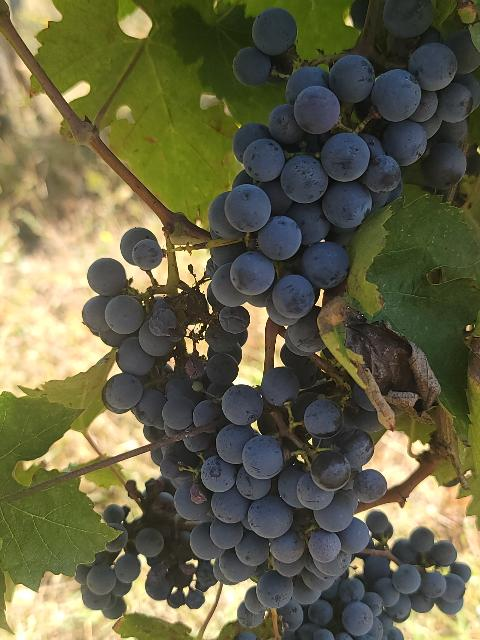grapes: (220, 44, 474, 319), (165, 366, 361, 615), (82, 258, 280, 436), (278, 528, 470, 640), (75, 476, 208, 619)
